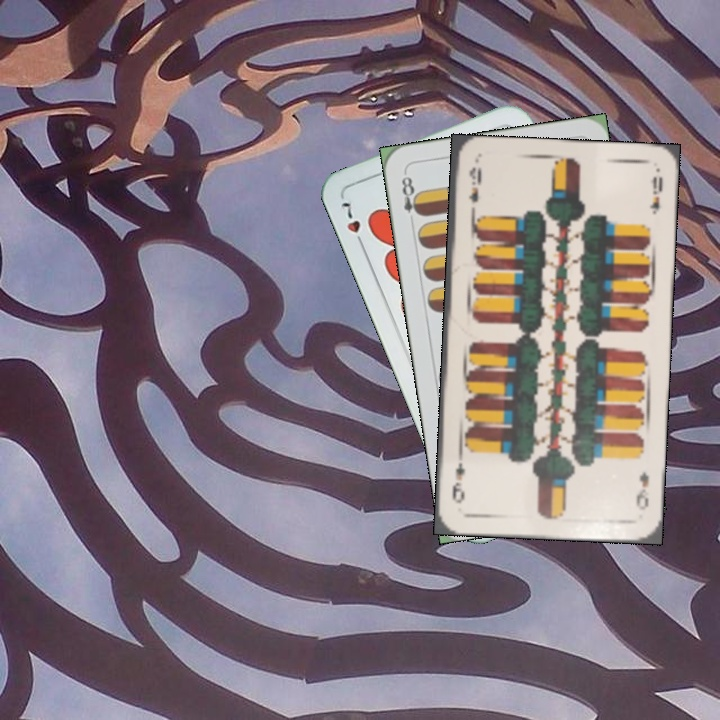E8: (397, 169, 424, 228)
E9: (465, 163, 484, 219), (632, 468, 651, 512)
H7: (337, 197, 367, 251)
